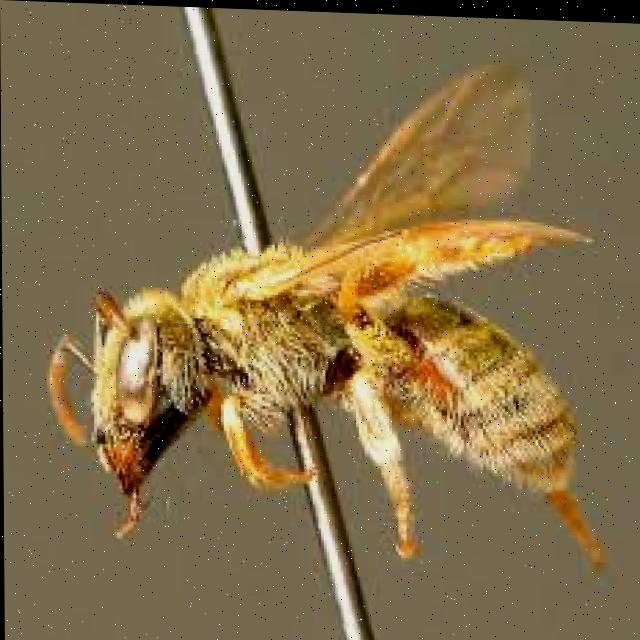Seladonia: (61, 24, 607, 633)
